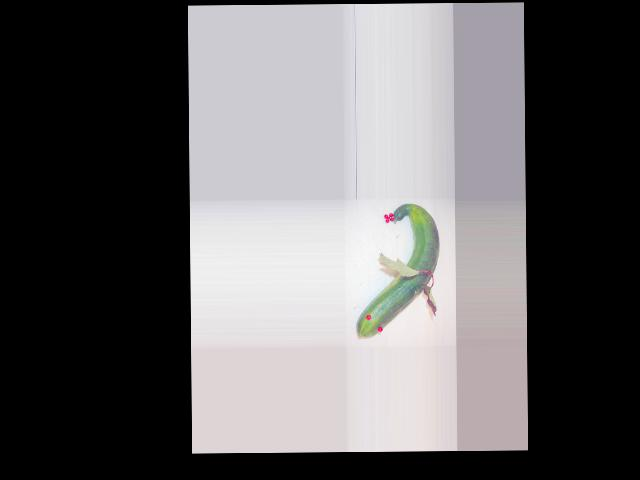cucumber: (355, 203, 440, 337)
